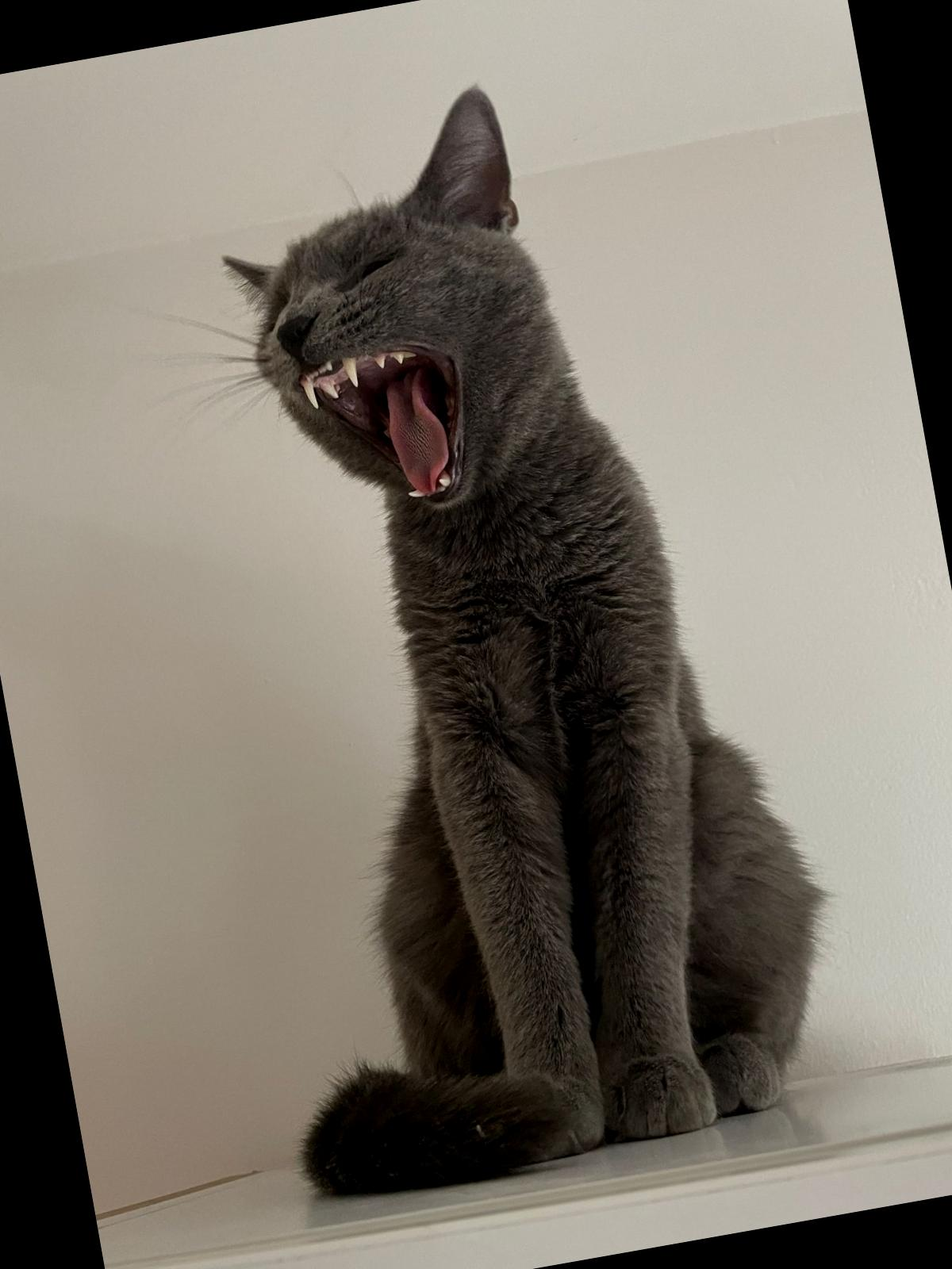macka: (126, 46, 859, 1211)
